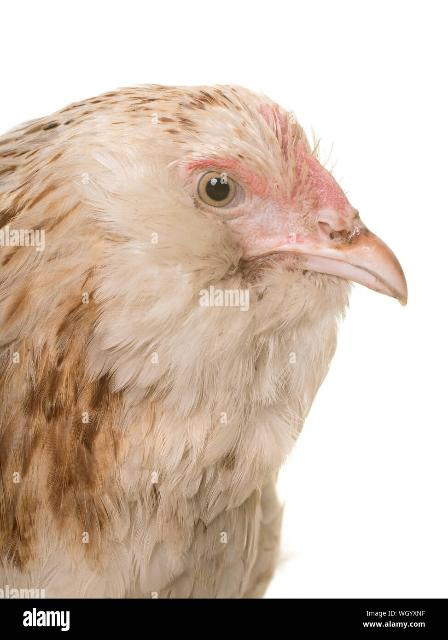Chicken: (0, 85, 409, 599)
